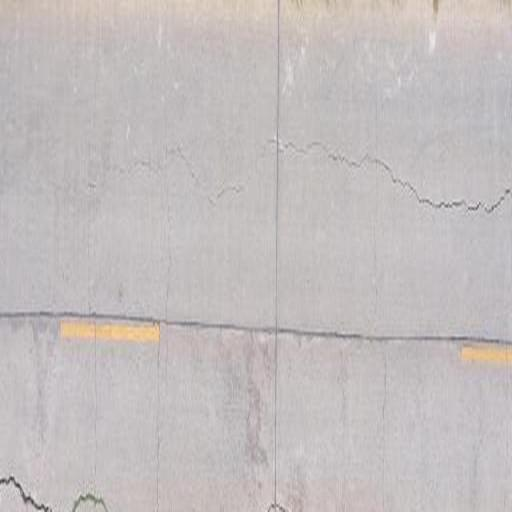minor crack: (275, 11, 382, 508), (72, 20, 142, 500), (470, 0, 510, 337), (158, 24, 182, 507), (358, 148, 501, 213), (163, 144, 240, 201), (0, 473, 111, 510), (272, 136, 377, 169), (480, 190, 510, 212), (425, 196, 471, 209), (0, 473, 22, 489), (78, 491, 100, 505), (19, 490, 38, 505)
moderate crack: (268, 5, 281, 495), (20, 315, 59, 457), (241, 334, 272, 472), (150, 324, 164, 512), (279, 44, 294, 98), (426, 0, 441, 52), (283, 486, 305, 509), (265, 499, 288, 512), (287, 0, 306, 12), (267, 134, 284, 147), (28, 504, 50, 512), (86, 181, 98, 188)
severe crack: (252, 329, 273, 353), (464, 201, 481, 211), (416, 196, 432, 206)
